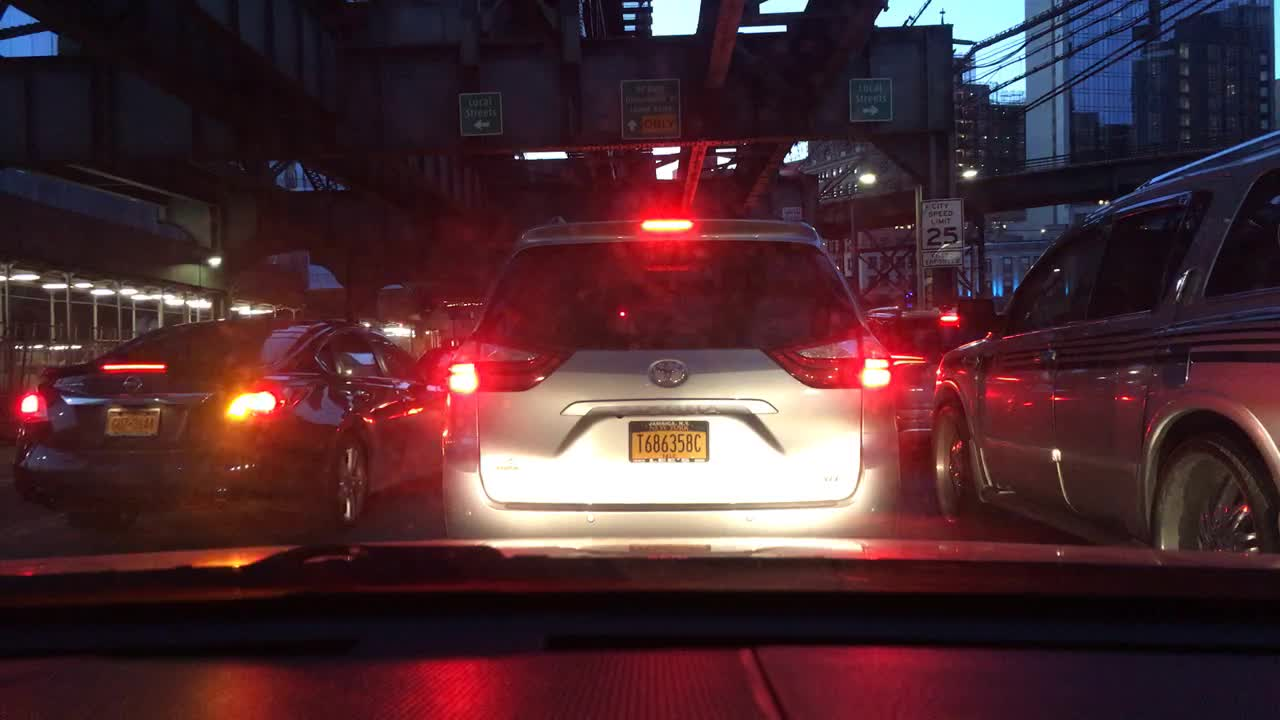car: (437, 217, 903, 556), (931, 128, 1277, 548), (10, 310, 449, 541), (860, 305, 985, 448)
traffic sign: (617, 79, 681, 138), (916, 199, 965, 266), (457, 92, 503, 134), (852, 82, 887, 123)
